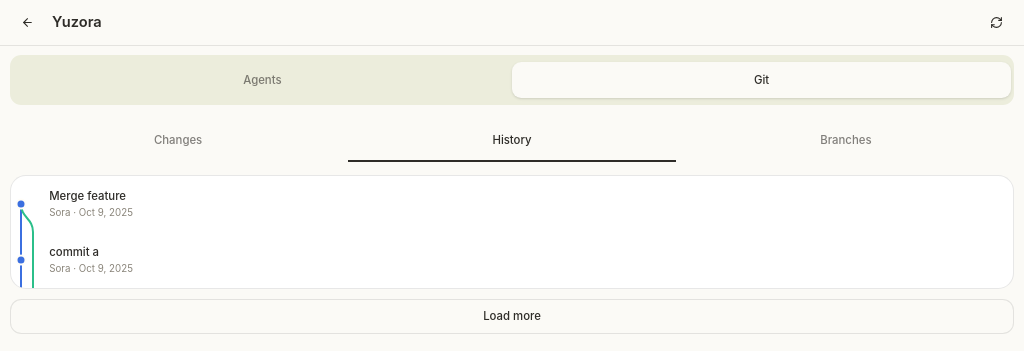
Test case: Git history › reloads the first page when the cursor has expired
Expected: the text "Merge feature" is shown, [49,189,126,203]
Click the button "Load more": (512,316) [10,298,1014,334]
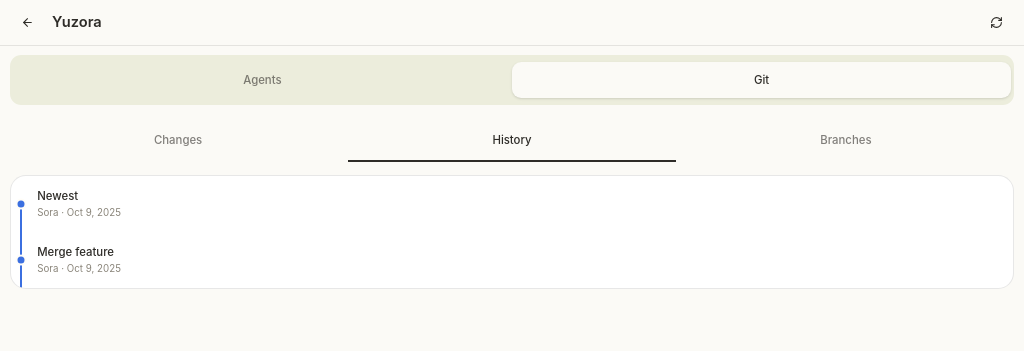
Result: the text "Newest" is shown at [37,189,78,203]
